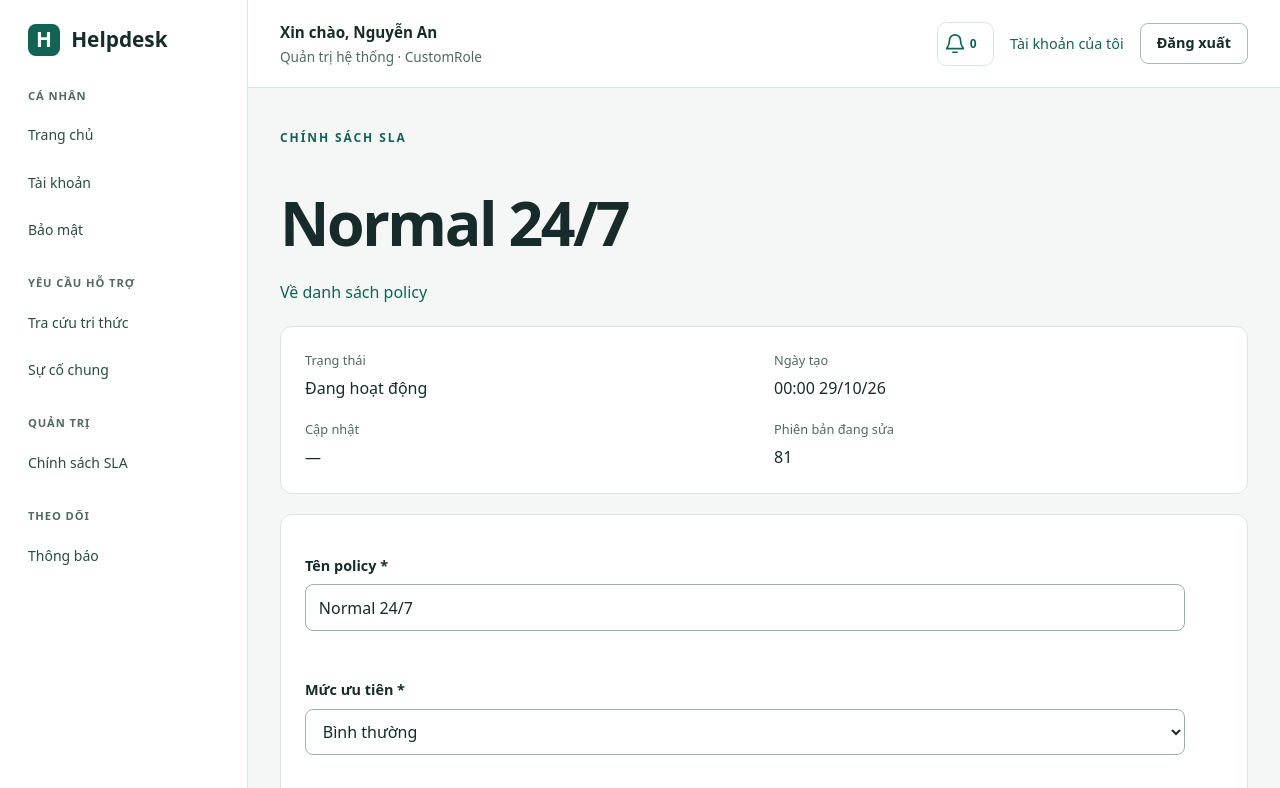
Test: SLA policy permission, pagination and forms › updates using the current server version and toggles status without persisting an unsaved metadata draft
Replace the text in the field labelled "Tên policy" with "Bản nhập chưa lưu" at (745,608), box left=305, top=584, right=1185, bottom=631
(page scrolled)
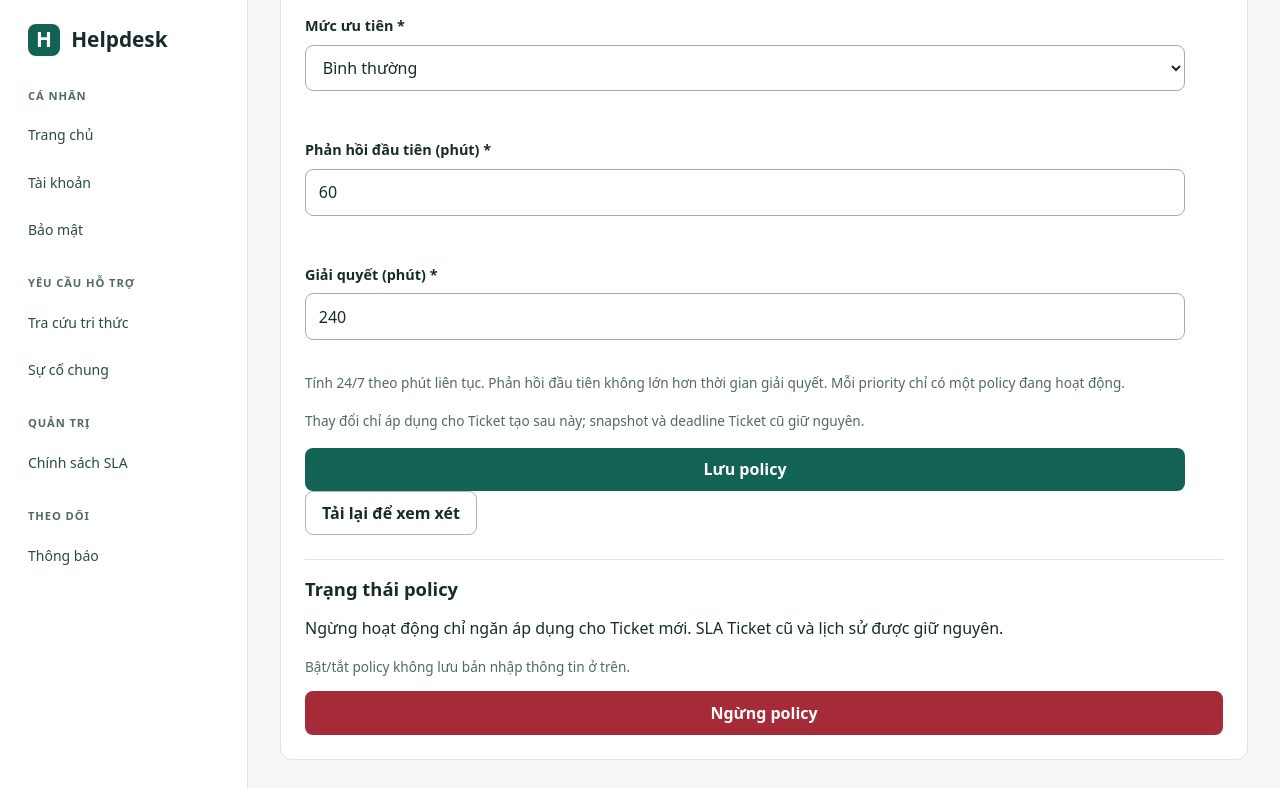
Click the button "Ngừng policy" at (764,713), box left=305, top=691, right=1223, bottom=735
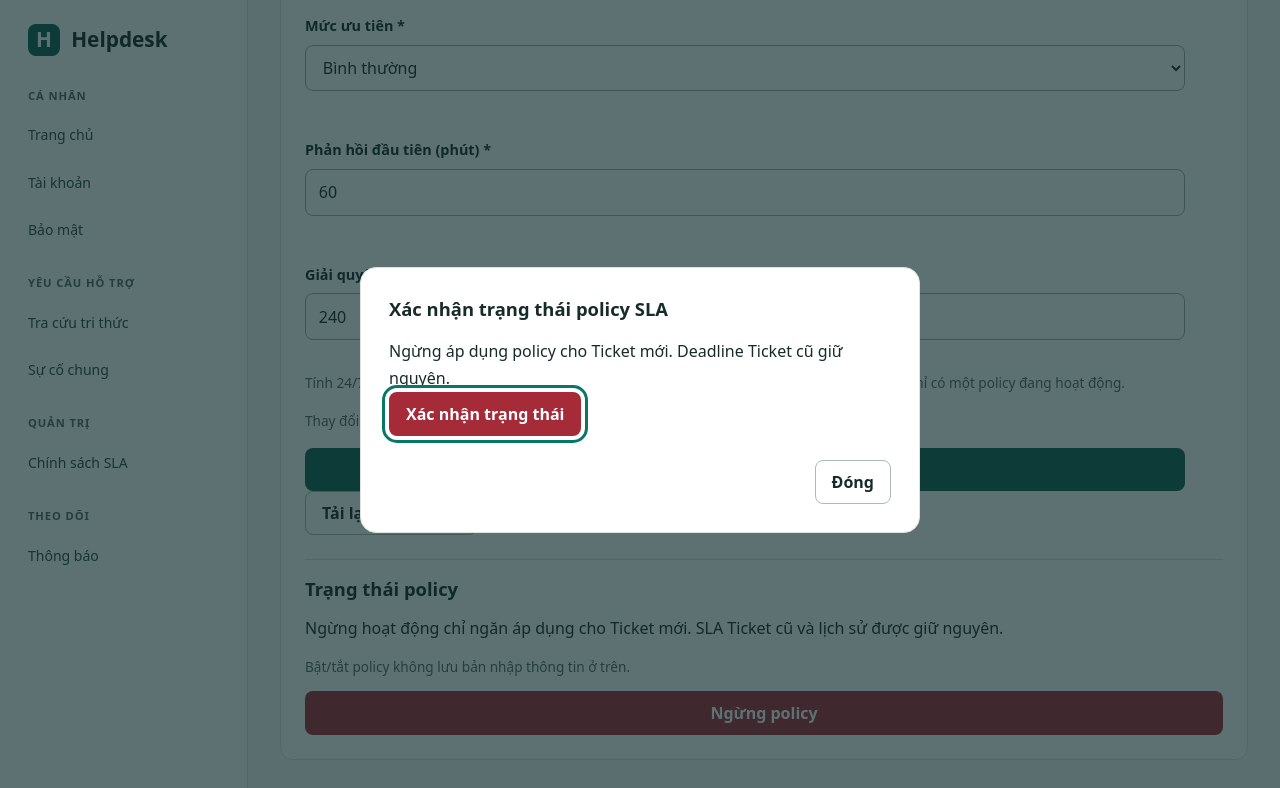
Click the button "Xác nhận trạng thái" at (485,414), box left=389, top=392, right=581, bottom=436
(page scrolled)
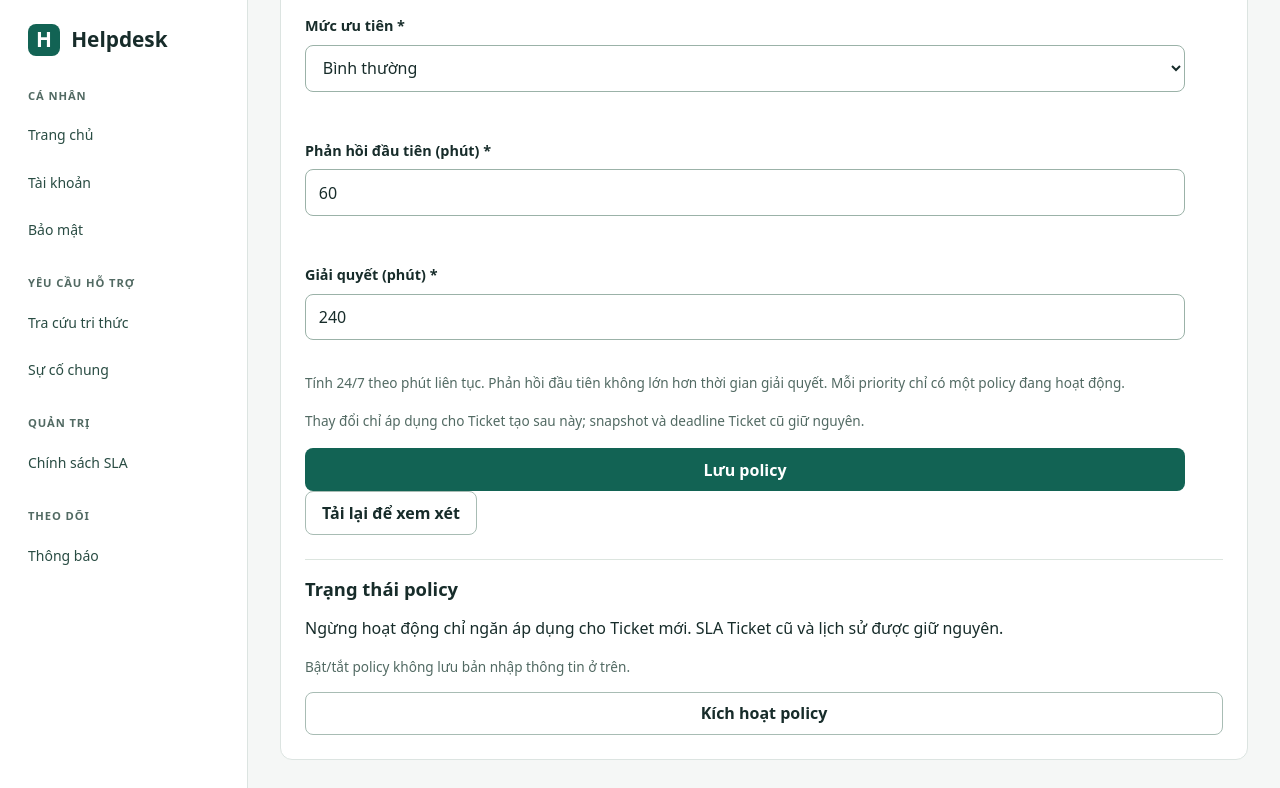
Click the button "Lưu policy" at (745,470), box left=305, top=448, right=1185, bottom=492
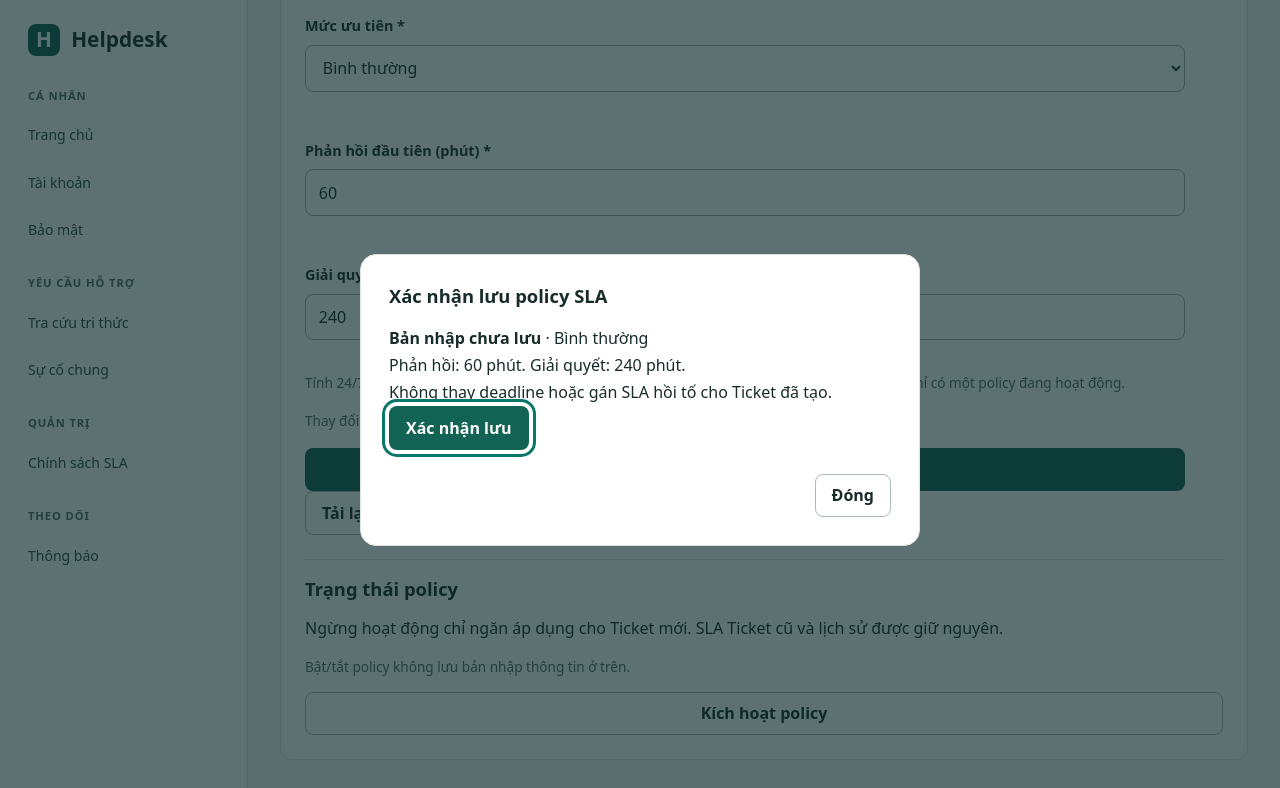
Click the button "Xác nhận lưu" at (459,428), box left=389, top=406, right=529, bottom=450
(page scrolled)
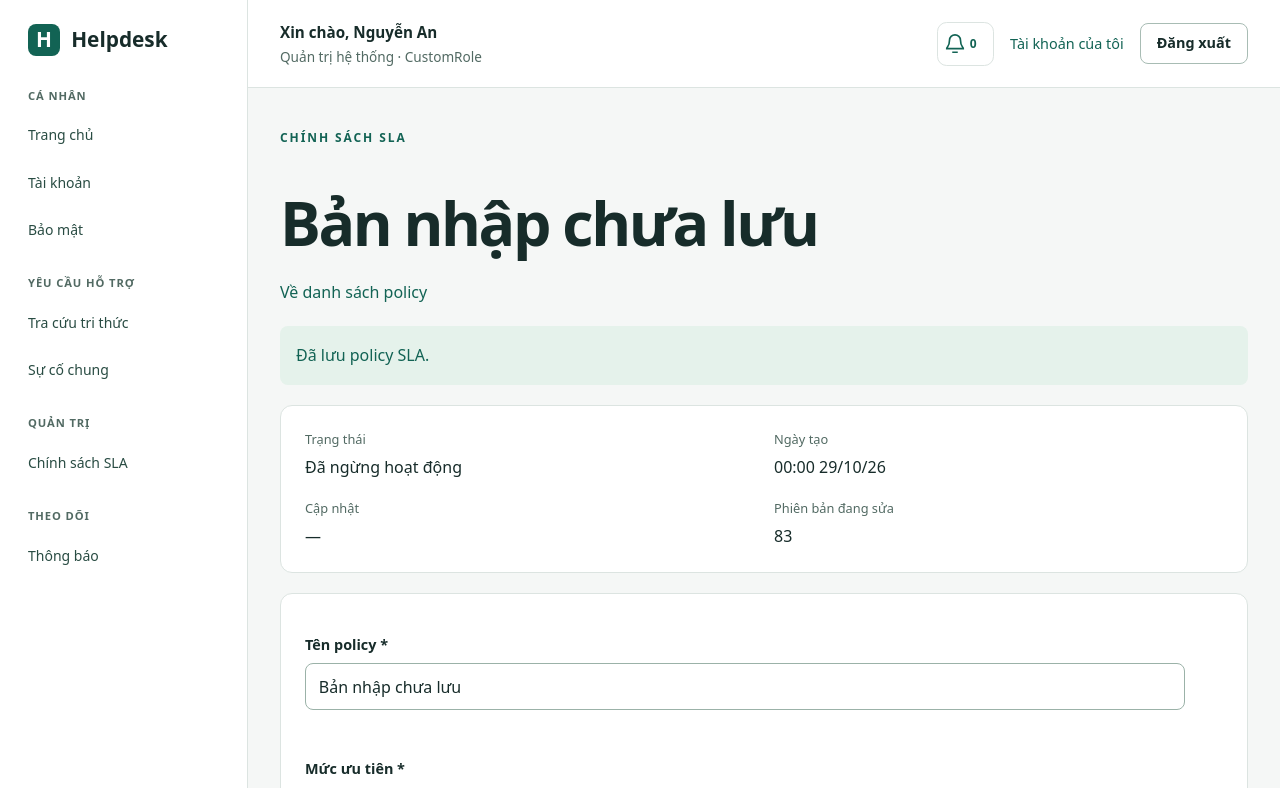
Now the heading "Bản nhập chưa lưu" is shown, box left=280, top=181, right=818, bottom=264
